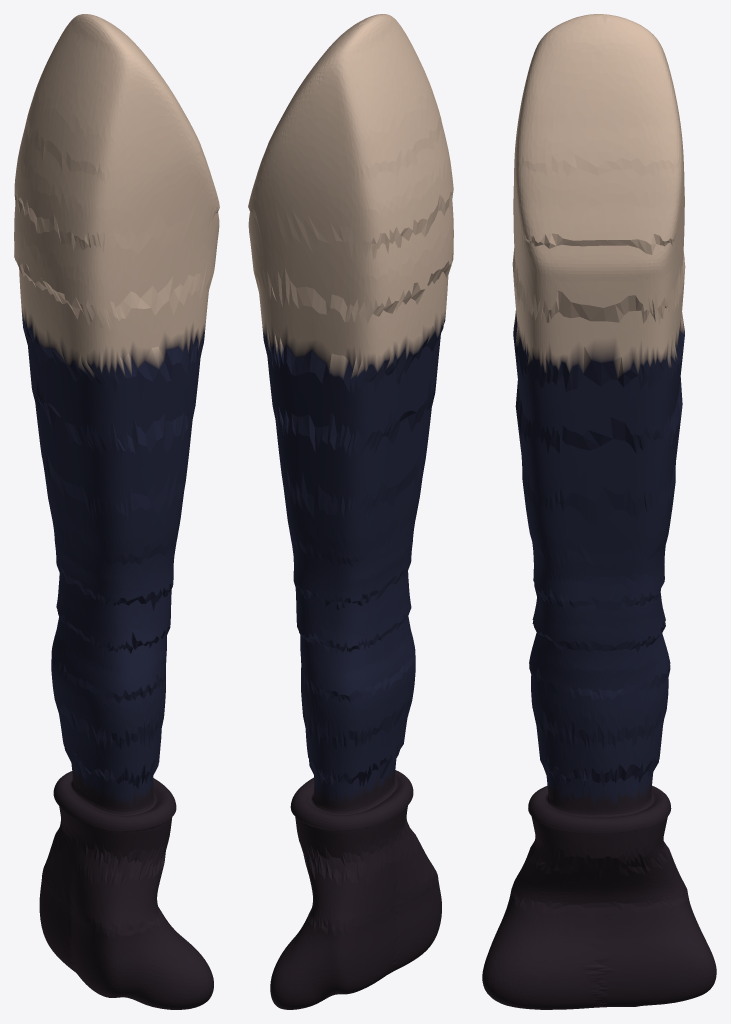
File: leg_L.glb
The picture shows the model from 3 angles, left to right: view 1: azimuth 30°, elevation 25°; view 2: azimuth 150°, elevation 25°; view 3: azimuth 270°, elevation 25°; orthographic projection.
Visible parts, largest first — view 1: geometry_0; view 2: geometry_0; view 3: geometry_0.
Boxes of the visible parts, bbox=[...] form: geometry_0: bbox=[14, 14, 219, 1009]; geometry_0: bbox=[248, 14, 453, 1009]; geometry_0: bbox=[482, 14, 716, 1009].
Bounding box in the file's own units: 0.2308 × 1.38 × 0.3023.
